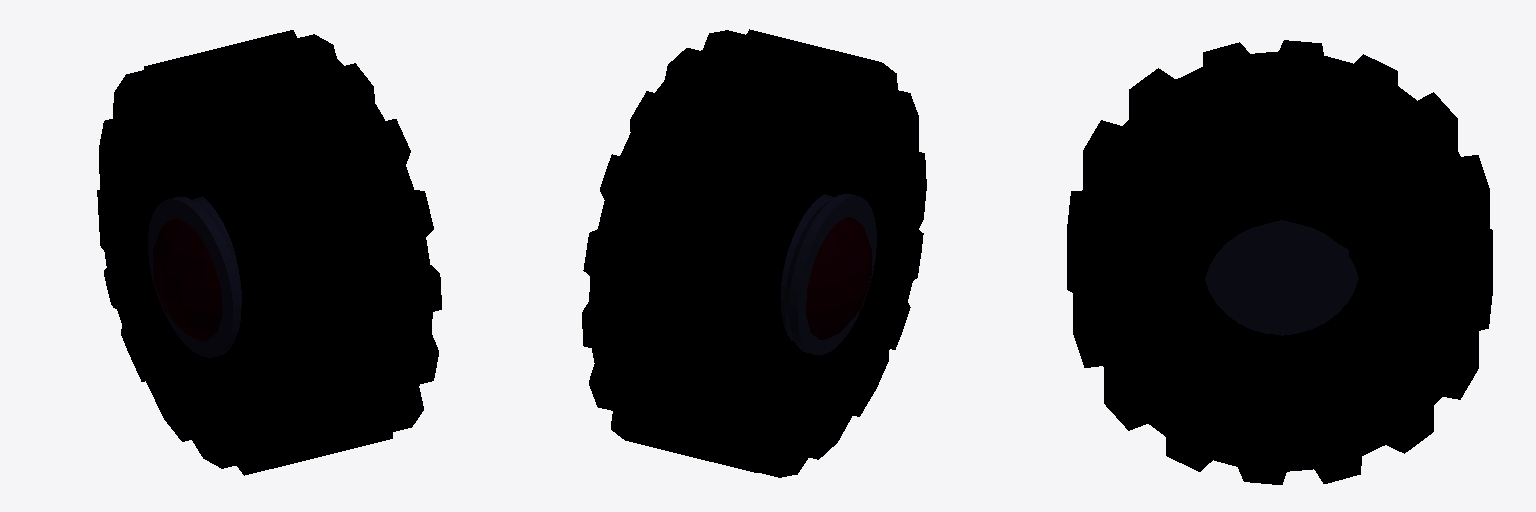
Rendered from backRight.obj.
The picture shows the model from 3 angles: view 1: azimuth 30°, elevation 25°; view 2: azimuth 150°, elevation 25°; view 3: azimuth 270°, elevation 25°; orthographic projection.
Visible parts, largest first — view 1: Cylinder.047; view 2: Cylinder.047; view 3: Cylinder.047.
Part boxes in pixels (x1,y1,x2,y2): Cylinder.047: (97, 30, 441, 475); Cylinder.047: (582, 29, 926, 477); Cylinder.047: (1067, 40, 1492, 484).
Size of the model in its own units: 0.8006 by 1.59 by 1.61.